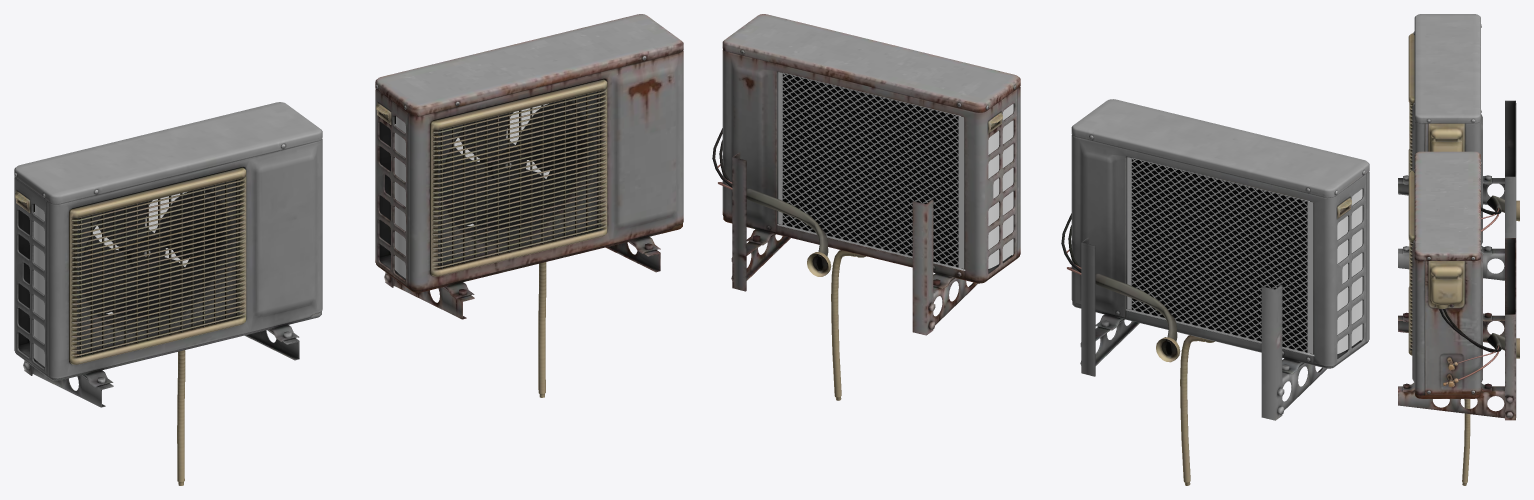
File: exterior_aircon_unit.glb
The picture shows the model from 3 angles, left to right: view 1: azimuth 30°, elevation 25°; view 2: azimuth 150°, elevation 25°; view 3: azimuth 270°, elevation 25°; orthographic projection. The views are drawn at different scales.
Visible parts, largest first — view 1: exterior_aircon_unit_rusted, exterior_aircon_unit; view 2: exterior_aircon_unit, exterior_aircon_unit_rusted; view 3: exterior_aircon_unit_rusted, exterior_aircon_unit.
Part boxes in pixels (box(x1,y1,x2,y2)): exterior_aircon_unit_rusted: box(375, 14, 683, 397); exterior_aircon_unit: box(14, 102, 322, 485); exterior_aircon_unit: box(1061, 99, 1369, 485); exterior_aircon_unit_rusted: box(712, 14, 1020, 400); exterior_aircon_unit_rusted: box(1398, 151, 1519, 485); exterior_aircon_unit: box(1398, 14, 1519, 280).
Bounding box in the file's own units: 1.8 × 0.9279 × 0.3742.
4 materials, 4 textured.
